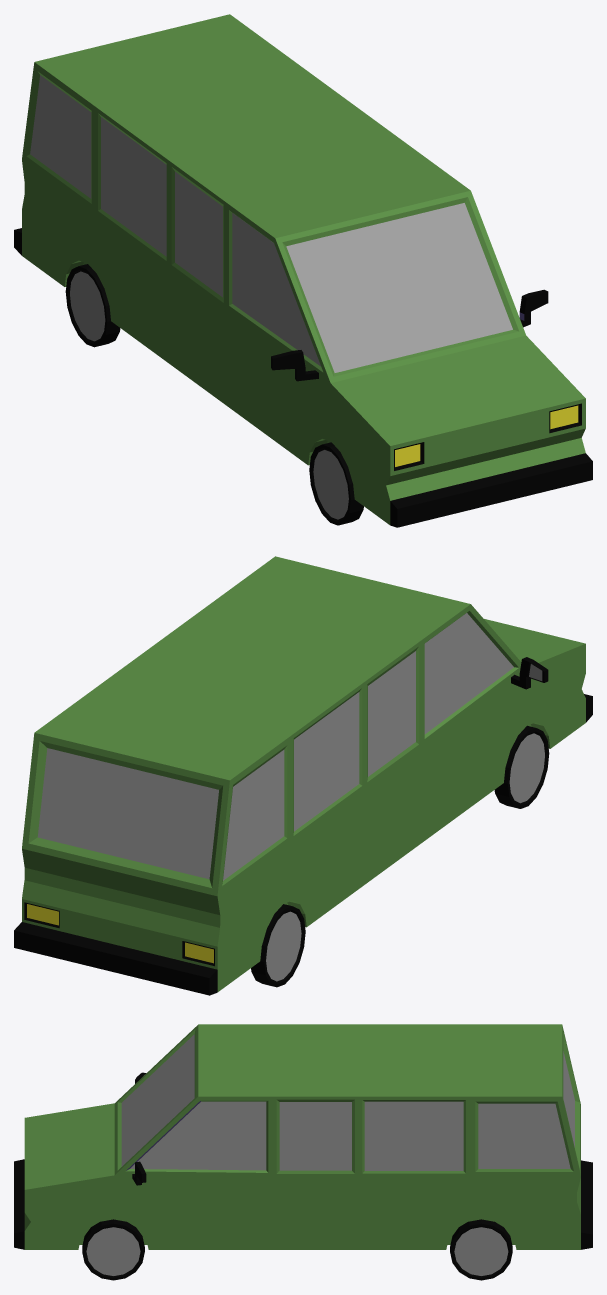
The model's file is Minivan 3.fbx.
The picture shows the model from 3 angles, top to bottom: view 1: azimuth 30°, elevation 25°; view 2: azimuth 150°, elevation 25°; view 3: azimuth 270°, elevation 25°; orthographic projection. The views are drawn at different scales.
Parts seen in each view (by area): view 1: Minivan Body.003, Wheel FR.023, Wheel RR.021; view 2: Minivan Body.003, Wheel RR.021, Wheel FR.023; view 3: Minivan Body.003, Wheel RL.021, Wheel FL.023.
Part boxes in pixels (x1,y1,x2,y2): Minivan Body.003: [14, 14, 592, 527]; Wheel FR.023: [309, 442, 363, 525]; Wheel RR.021: [65, 264, 120, 347]; Minivan Body.003: [14, 556, 592, 995]; Wheel RR.021: [251, 904, 305, 987]; Wheel FR.023: [494, 725, 549, 808]; Minivan Body.003: [14, 1024, 592, 1249]; Wheel RL.021: [450, 1219, 512, 1280]; Wheel FL.023: [82, 1219, 144, 1280].
Size of the model in its own units: 2.04 by 1.71 by 4.91.
